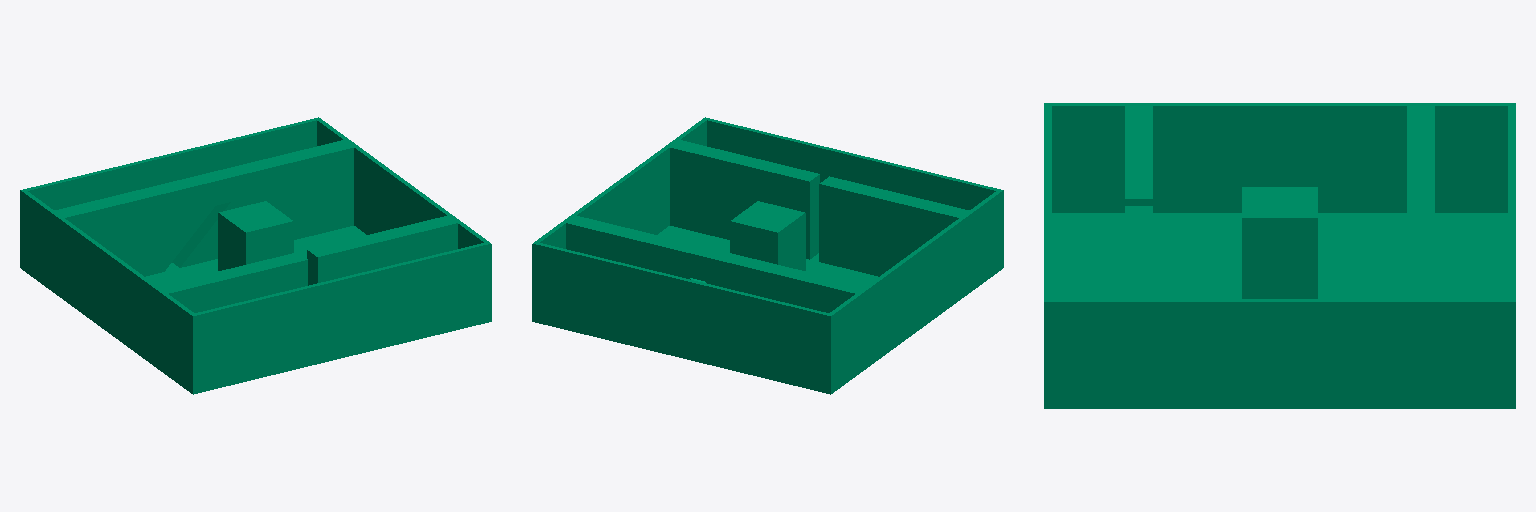
The robot description file, URDF, robot "my_robot":
<?xml version="1.0" ?>
<robot name="my_robot">
    <!-- World Link -->
    <link name="world" />
    <!-- Robot Base -->
    <link name="base_link">
        <visual>
            <geometry>
                <mesh filename="package://my_ompl_planner/meshes/drone_with_cylinders.stl" scale="1 1 1" />
            </geometry>
        </visual>
        <collision>
            <geometry>
                <mesh filename="package://my_ompl_planner/meshes/drone_with_cylinders.stl" scale="1 1 1" />
            </geometry>
        </collision>
        <inertial>
            <mass value="0.1" />
            <origin xyz="0 0 0" rpy="0 0 0" />
            <inertia ixx="0.03" iyy="0.03" izz="0.03" ixy="0.0" ixz="0.0" iyz="0.0" />
        </inertial>
    </link>
    <!-- Map/Environment -->
    <link name="map">
        <visual>
            <geometry>
                <mesh filename="package://my_ompl_planner/meshes/map.stl" scale="1 1 1" />
            </geometry>
        </visual>
        <collision>
            <geometry>
                <mesh filename="package://my_ompl_planner/meshes/map.stl" scale="1 1 1" />
            </geometry>
        </collision>
        <inertial>
            <mass value="0.1" />
            <origin xyz="0 0 0" rpy="0 0 0" />
            <inertia ixx="0.03" iyy="0.03" izz="0.03" ixy="0.0" ixz="0.0" iyz="0.0" />
        </inertial>
    </link>
    <!-- Connect the robot base to the world with a floating joint -->
    <joint name="base_joint" type="floating">
        <parent link="world" />
        <child link="base_link" />
    </joint>
    <!-- Connect the map to the world -->
    <joint name="map_joint" type="fixed">
        <parent link="world" />
        <child link="map" />
        <origin xyz="0 0 0" rpy="0 0 0" />
    </joint>
    <transmission name="trans_base_joint">
        <type>transmission_interface/SimpleTransmission</type>
        <joint name="base_joint">
            <hardwareInterface>hardware_interface/EffortJointInterface</hardwareInterface>
        </joint>
        <actuator name="base_joint_motor">
            <hardwareInterface>hardware_interface/EffortJointInterface</hardwareInterface>
            <mechanicalReduction>1</mechanicalReduction>
        </actuator>
    </transmission>
    <gazebo>
        <plugin name="gazebo_ros_control" filename="libgazebo_ros_control.so">
            <robotNamespace>/</robotNamespace>
        </plugin>
    </gazebo>
</robot>

--- What the picture shows (computed from the rendered views, not written in the file) ---
Views: 3 orthographic renders of the robot side by side, from view 1: azimuth 30°, elevation 25°; view 2: azimuth 150°, elevation 25°; view 3: azimuth 270°, elevation 25°.
Robot: my_robot — 3 links, 2 joints (1 fixed, 1 floating); root link world; default pose: all joints at 0.
Visible links, largest first — view 1: map; view 2: map; view 3: map.
Link boxes in pixels (<box>): map: <box>20,117,491,394</box>; map: <box>532,117,1003,394</box>; map: <box>1044,103,1515,408</box>.
Size in the robot's own frame: 20 by 20 by 5.15 metres.
Meshes: 2 distinct files referenced, 2 mesh visuals loaded (2 binary STL).
